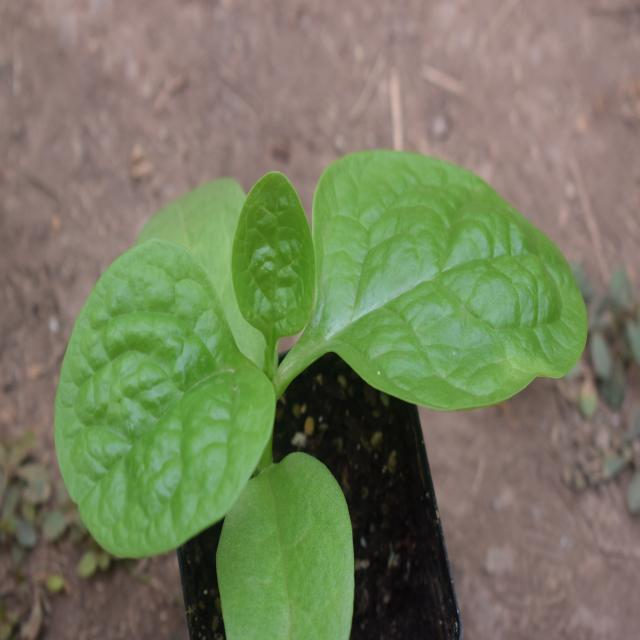Ceylon spinach: (54, 147, 588, 576)
